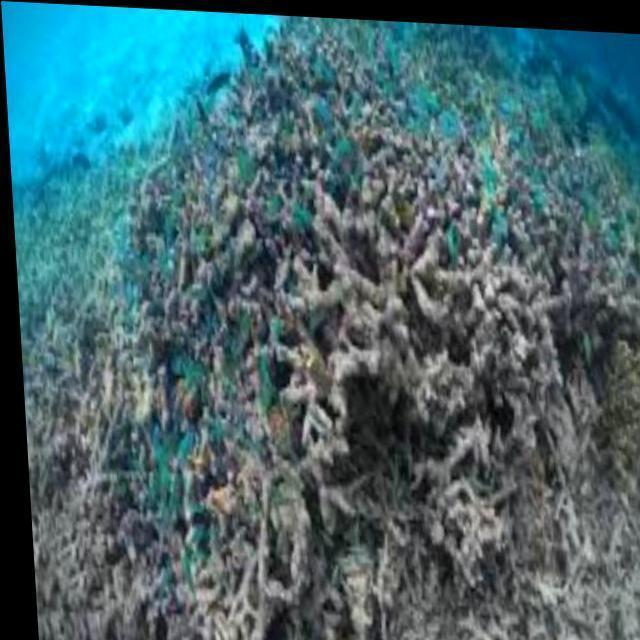Dead Coral: (5, 102, 640, 640), (75, 79, 616, 486)
